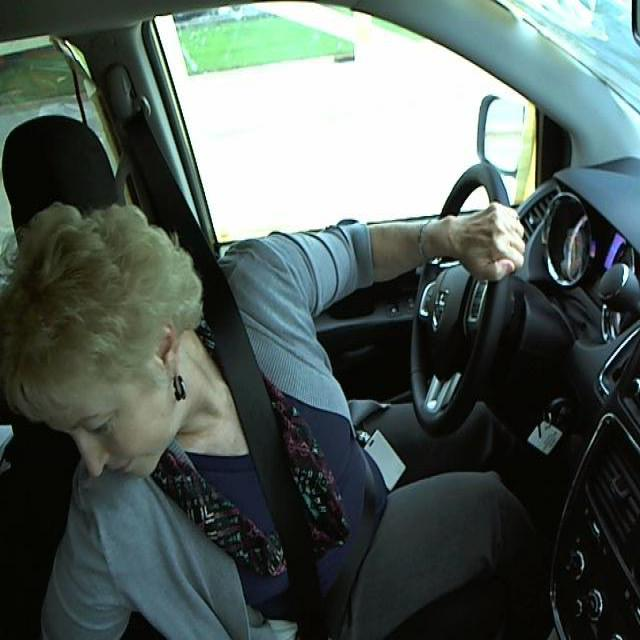seatbelt: (209, 311, 377, 628)
